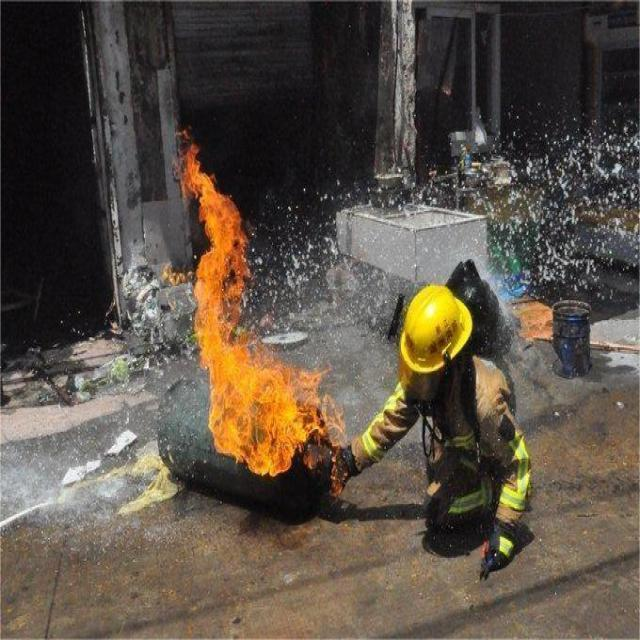Fire: (176, 140, 324, 478)
